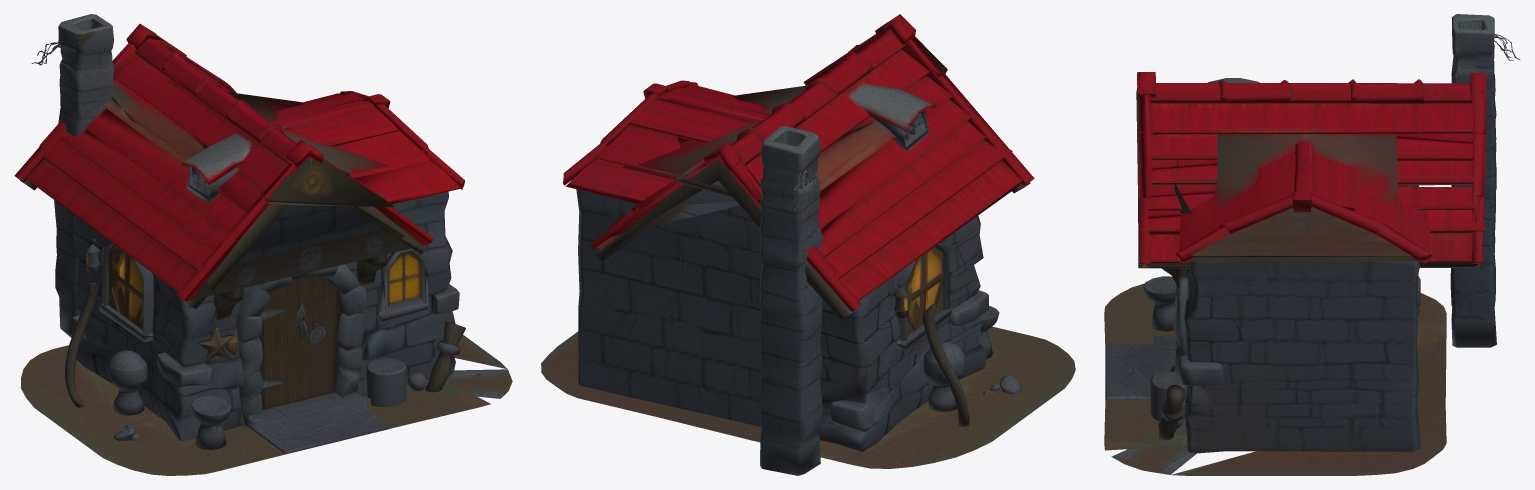
The model's file is house_b_kargath.glb.
3 renders of one model, left to right at view 1: azimuth 30°, elevation 25°; view 2: azimuth 150°, elevation 25°; view 3: azimuth 270°, elevation 25°, orthographic. The views are drawn at different scales.
Size of the model in its own units: 0.9614 by 0.7124 by 0.8486.
Materials: 1 (1 with a texture image).
